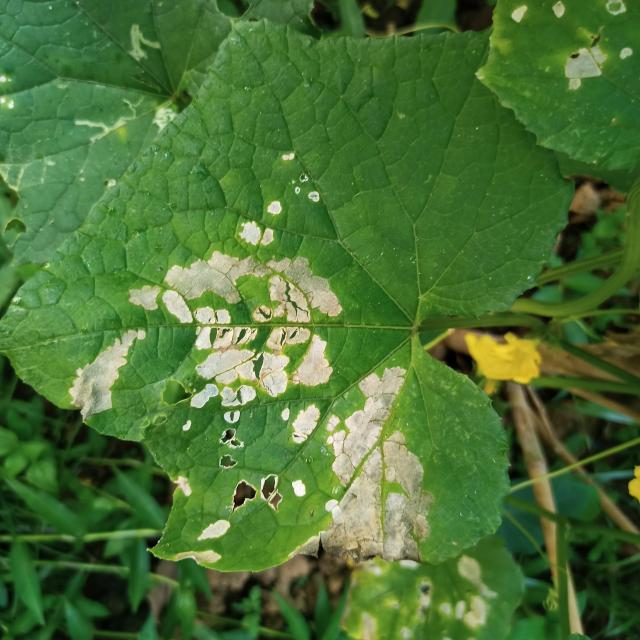disease_cucumber: (64, 149, 344, 425), (162, 359, 422, 580)
